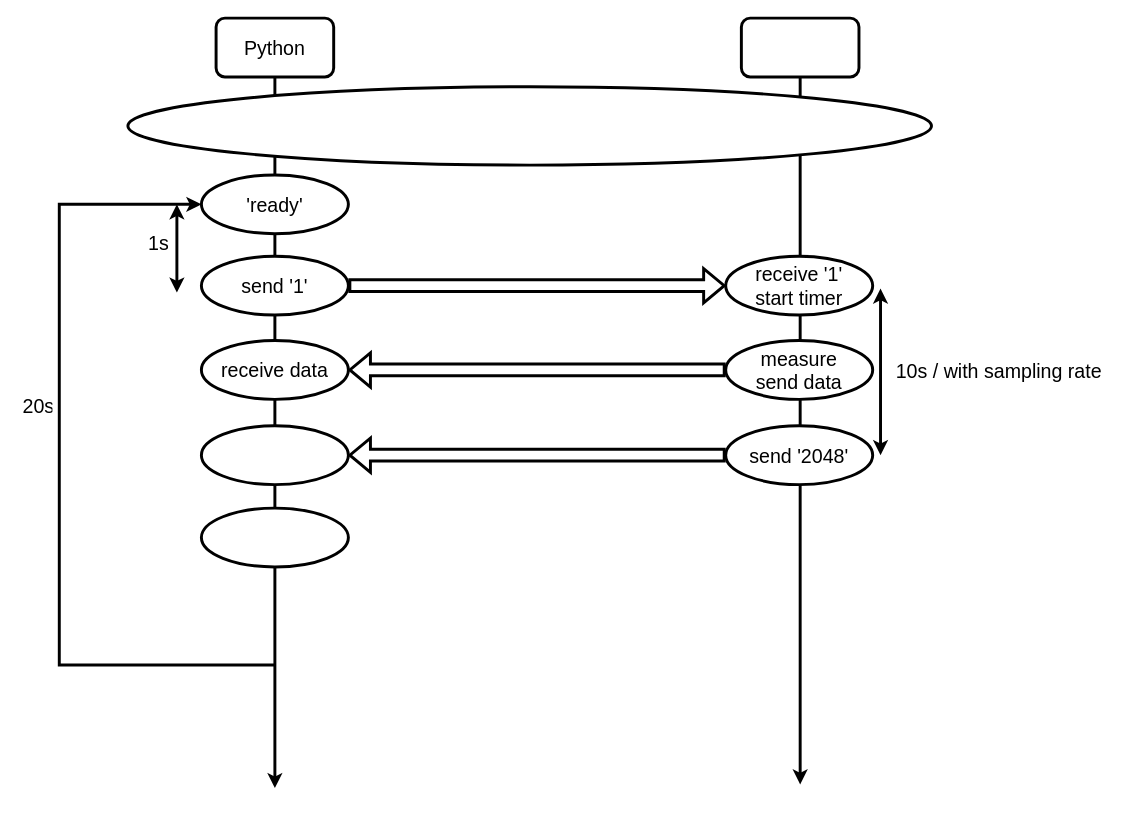
Image size: 1134x814. Some labels were removed from this diagram. Here are the shapes that lost their labels. From the top down, the centre of each, then its label:
(799,47): Arduino
(529,125): Establish bluetooth connection
(274,455): receive '2048' save excel
(274,537): 'relax'
